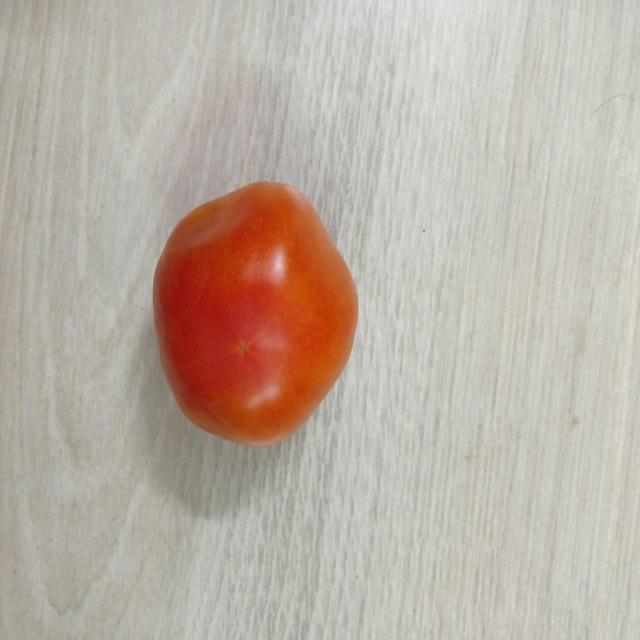Tomato: (150, 179, 362, 450)
